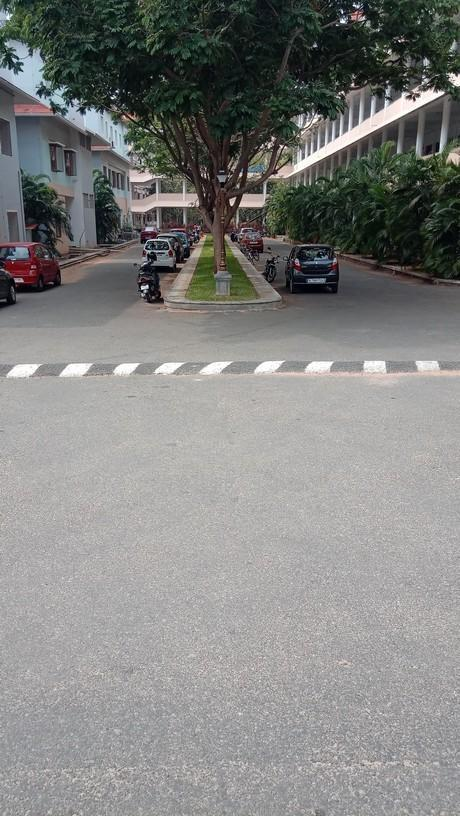speedbreaker: (7, 354, 460, 382)
